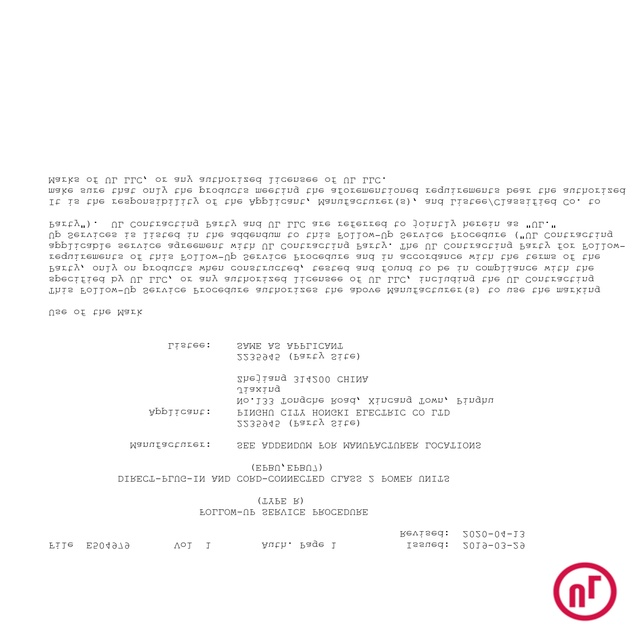ul: (551, 560, 619, 622)
